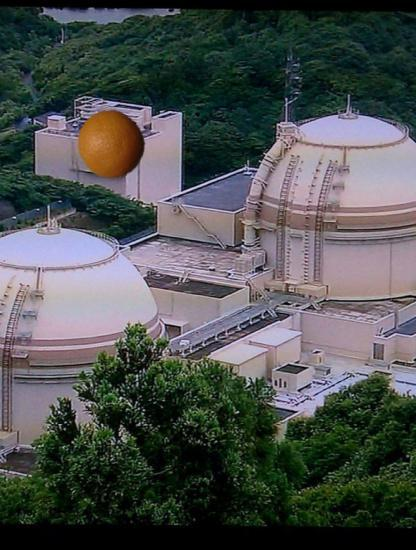Orange: (77, 110, 147, 180)
